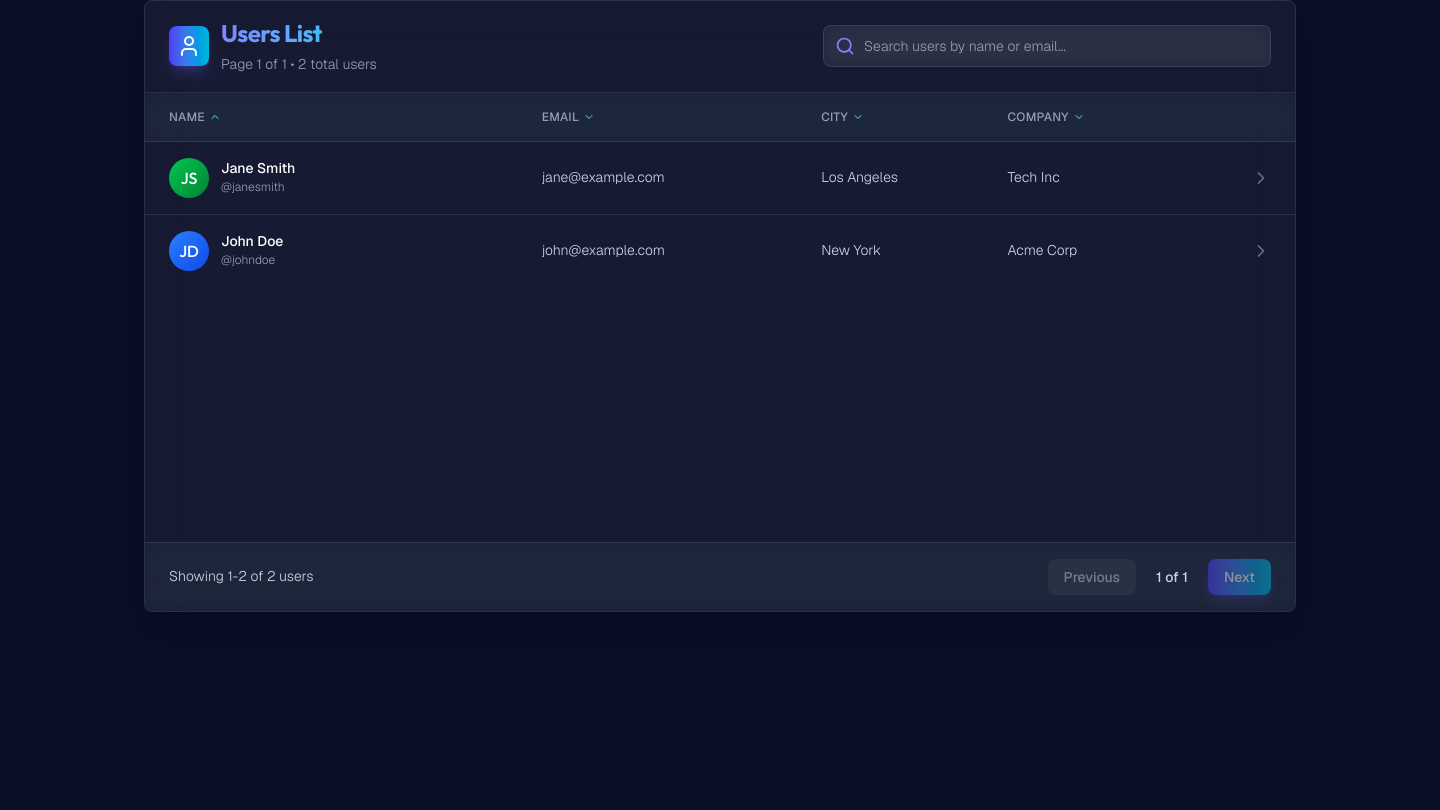
UsersList › opens modal when user row is clicked
Step 1. Click the heading "John Doe" → (252, 241), box [221,232,283,250]
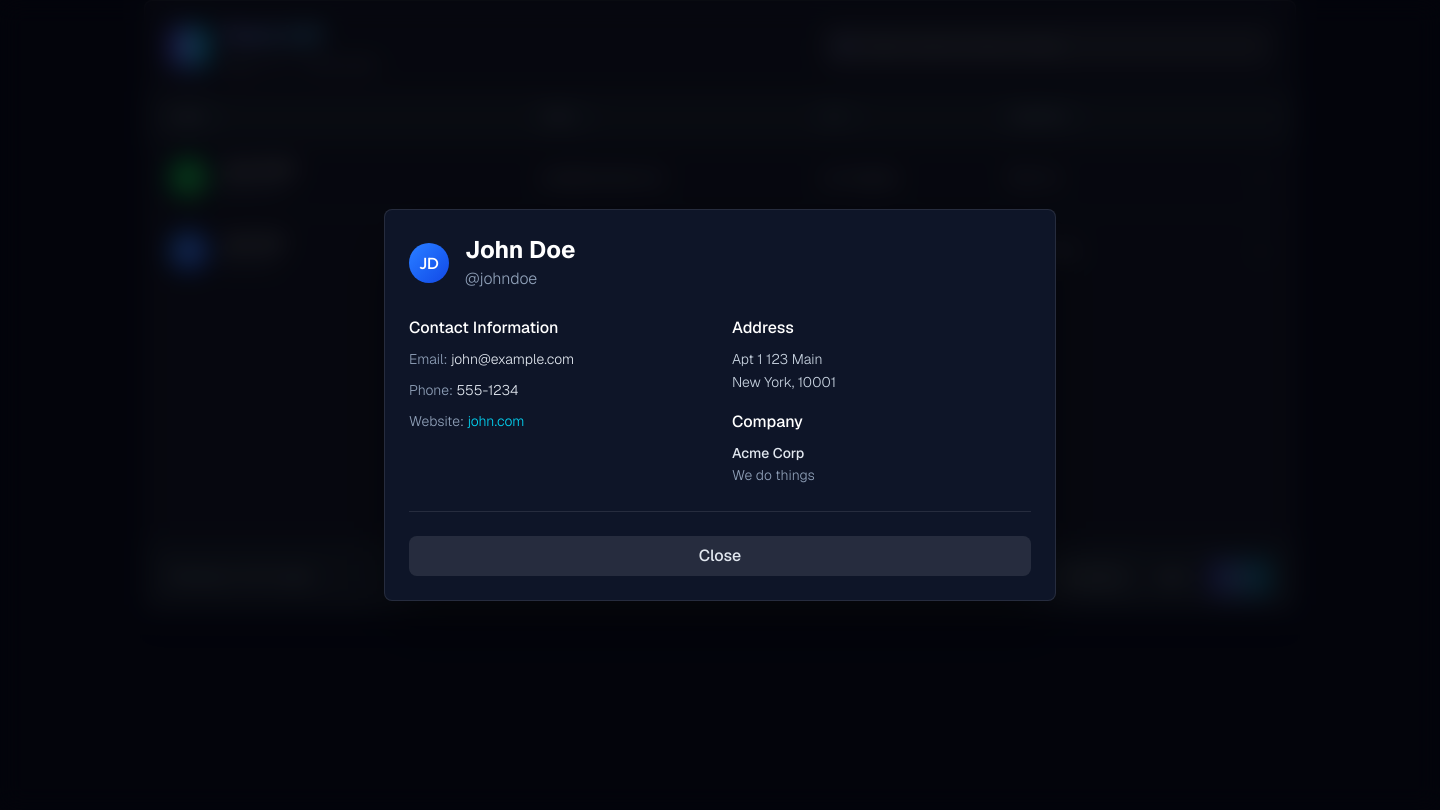
expect the heading "Contact Information" is shown: met, box [409,317,558,338]
